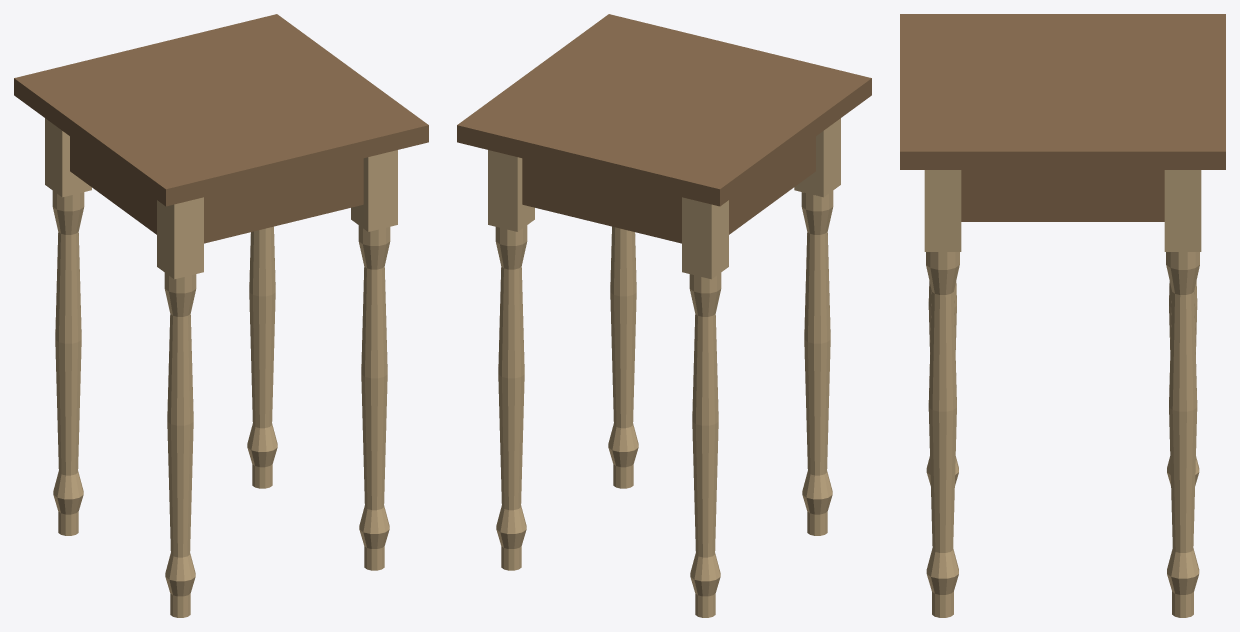
File: BIB-STL-counter.glb
3 renders of one model, left to right at view 1: azimuth 30°, elevation 25°; view 2: azimuth 150°, elevation 25°; view 3: azimuth 270°, elevation 25°, orthographic. The views are drawn at different scales.
Visible parts, largest first — view 1: top:pbr, leg-fl:pbr, leg-fr:pbr, leg-bl:pbr, apron-f:pbr, leg-br:pbr, apron-l:pbr; view 2: top:pbr, leg-bl:pbr, leg-br:pbr, leg-fl:pbr, apron-b:pbr, leg-fr:pbr, apron-l:pbr; view 3: top:pbr, leg-fr:pbr, leg-br:pbr, apron-r:pbr, leg-fl:pbr, leg-bl:pbr.
Part boxes in pixels (x1,y1,x2,y2): top:pbr: (14, 14, 428, 206); leg-fl:pbr: (157, 197, 203, 617); leg-fr:pbr: (351, 150, 397, 570); leg-bl:pbr: (45, 118, 91, 535); apron-f:pbr: (204, 158, 363, 243); leg-br:pbr: (247, 226, 277, 488); apron-l:pbr: (70, 136, 156, 234); top:pbr: (457, 14, 871, 206); leg-bl:pbr: (682, 197, 728, 617); leg-br:pbr: (488, 150, 534, 570); leg-fl:pbr: (794, 118, 840, 535); apron-b:pbr: (522, 158, 681, 243); leg-fr:pbr: (608, 226, 638, 488); apron-l:pbr: (729, 136, 815, 234); top:pbr: (900, 14, 1225, 169); leg-fr:pbr: (924, 170, 961, 617); leg-br:pbr: (1164, 170, 1201, 617); apron-r:pbr: (961, 170, 1164, 221); leg-fl:pbr: (926, 281, 958, 485); leg-bl:pbr: (1167, 281, 1199, 485).
Bounding box in the file's own units: 0.4 × 0.65 × 0.4.
